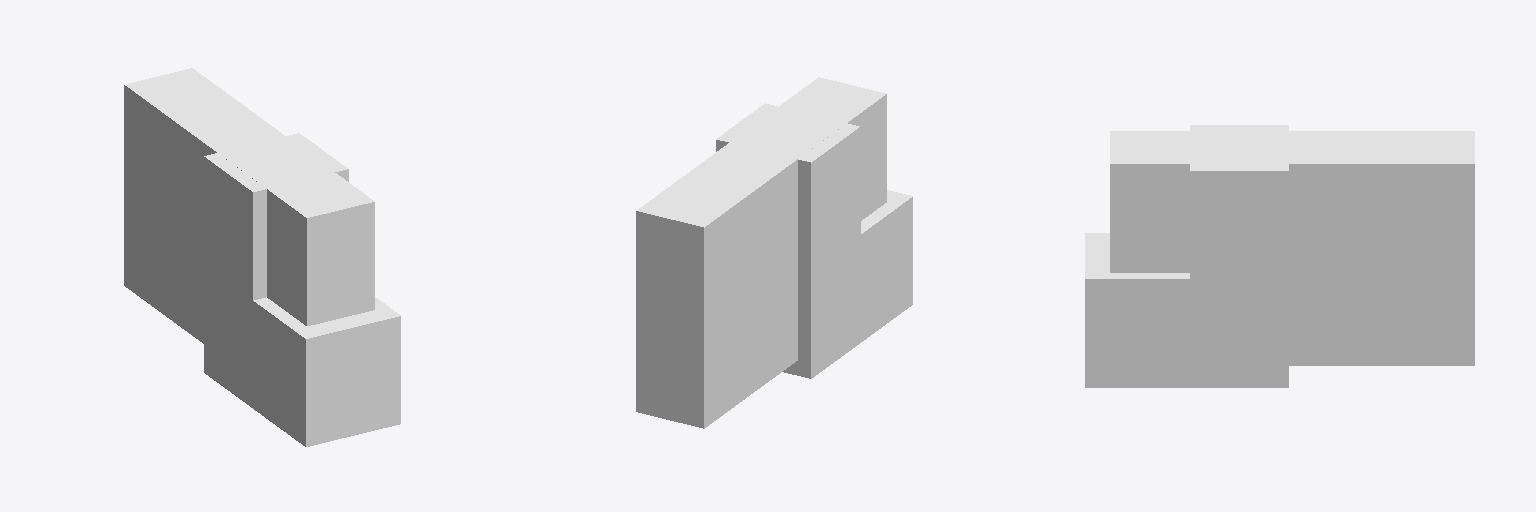
File: acs35.obj
The picture shows the model from 3 angles: view 1: azimuth 30°, elevation 25°; view 2: azimuth 150°, elevation 25°; view 3: azimuth 270°, elevation 25°; orthographic projection.
Visible parts, largest first — view 1: frm-nuke_pak, frm-control_box; view 2: frm-nuke_pak, frm-control_box; view 3: frm-nuke_pak, frm-control_box.
Part boxes in pixels (x1,y1,x2,y2): frm-nuke_pak: (124, 68, 374, 343); frm-control_box: (204, 133, 400, 446); frm-nuke_pak: (636, 77, 886, 428); frm-control_box: (716, 103, 912, 378); frm-nuke_pak: (1110, 131, 1474, 365); frm-control_box: (1085, 125, 1288, 387).
Size of the model in its own units: 0.0626 by 0.1355 by 0.2215.